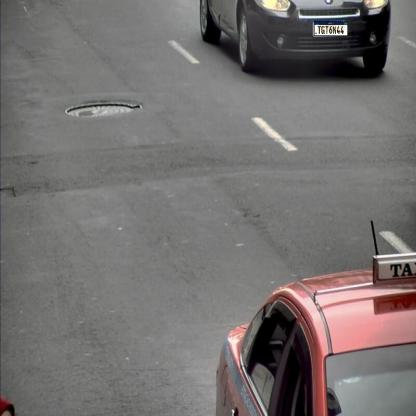PlacaM: (314, 21, 348, 36)
